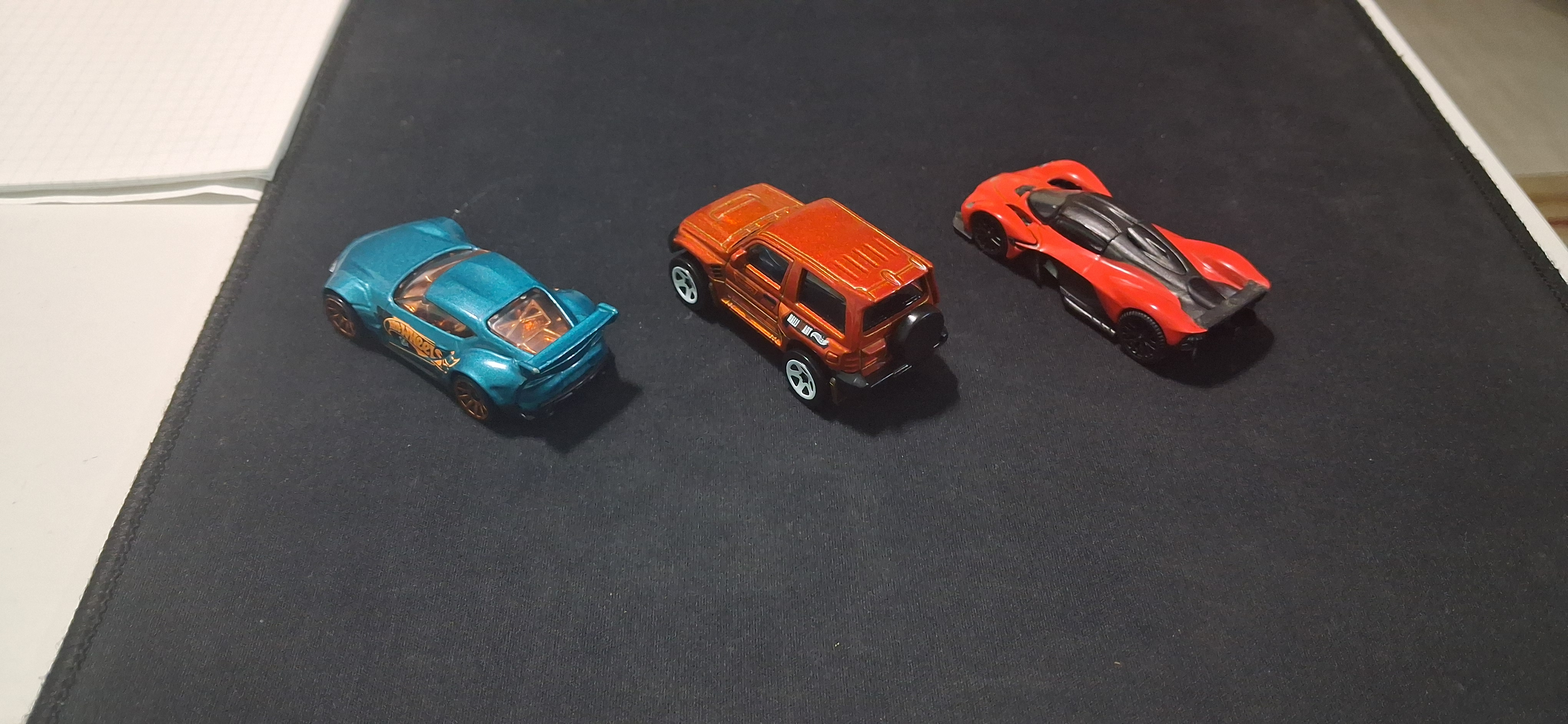Aston_Martin_Valkyrie: (946, 92, 1307, 395)
Mitsubishi_Pajero_Evolution: (644, 134, 960, 459)
Toyota_GR_Supra: (290, 204, 630, 464)
